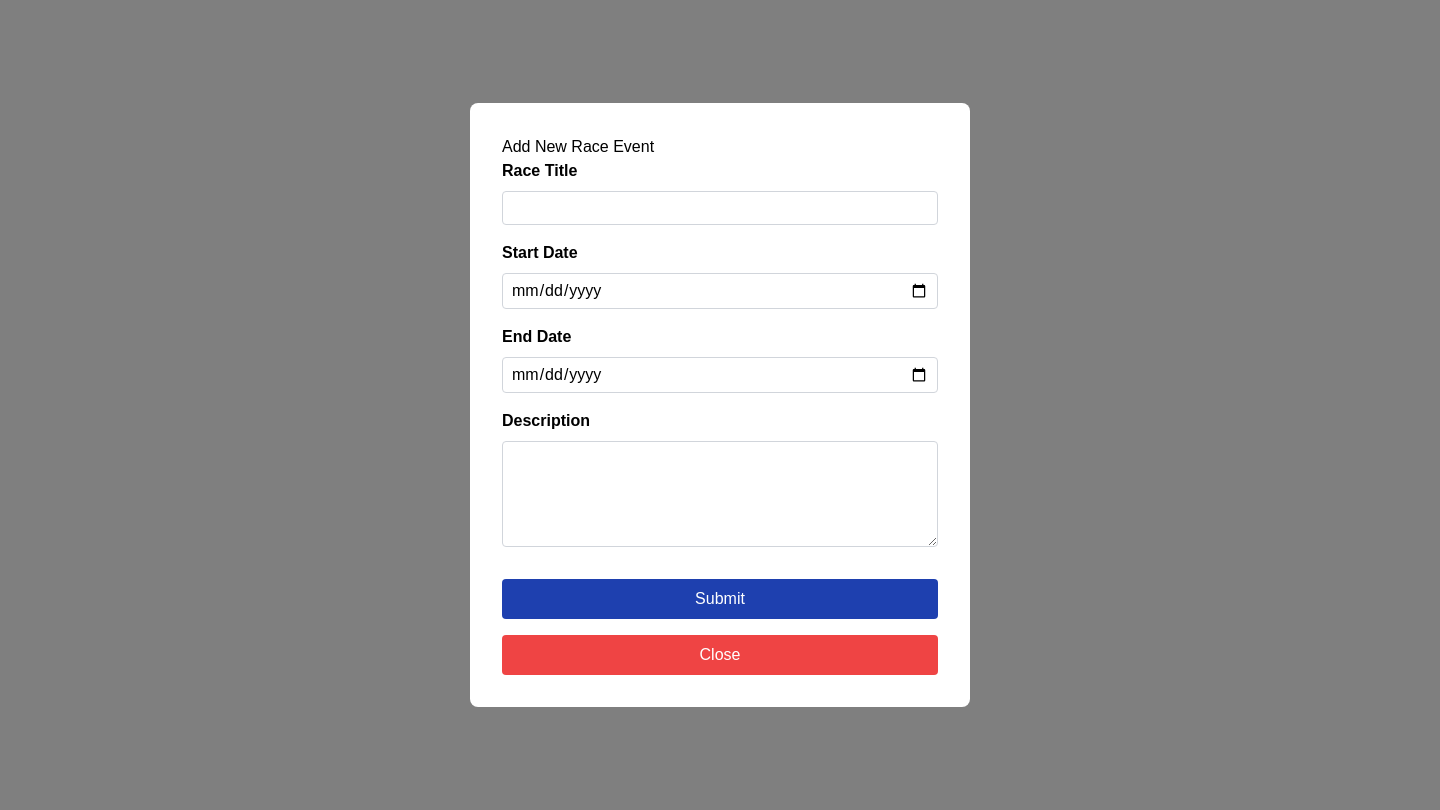
Test case: RaceAddForm › should show alert when start date is greater than end date
The width and height of the screenshot is (1440, 810).
Step 1. Type "New Race" into the field labelled "Race Title" → (720, 208), box [502,191,938,225]
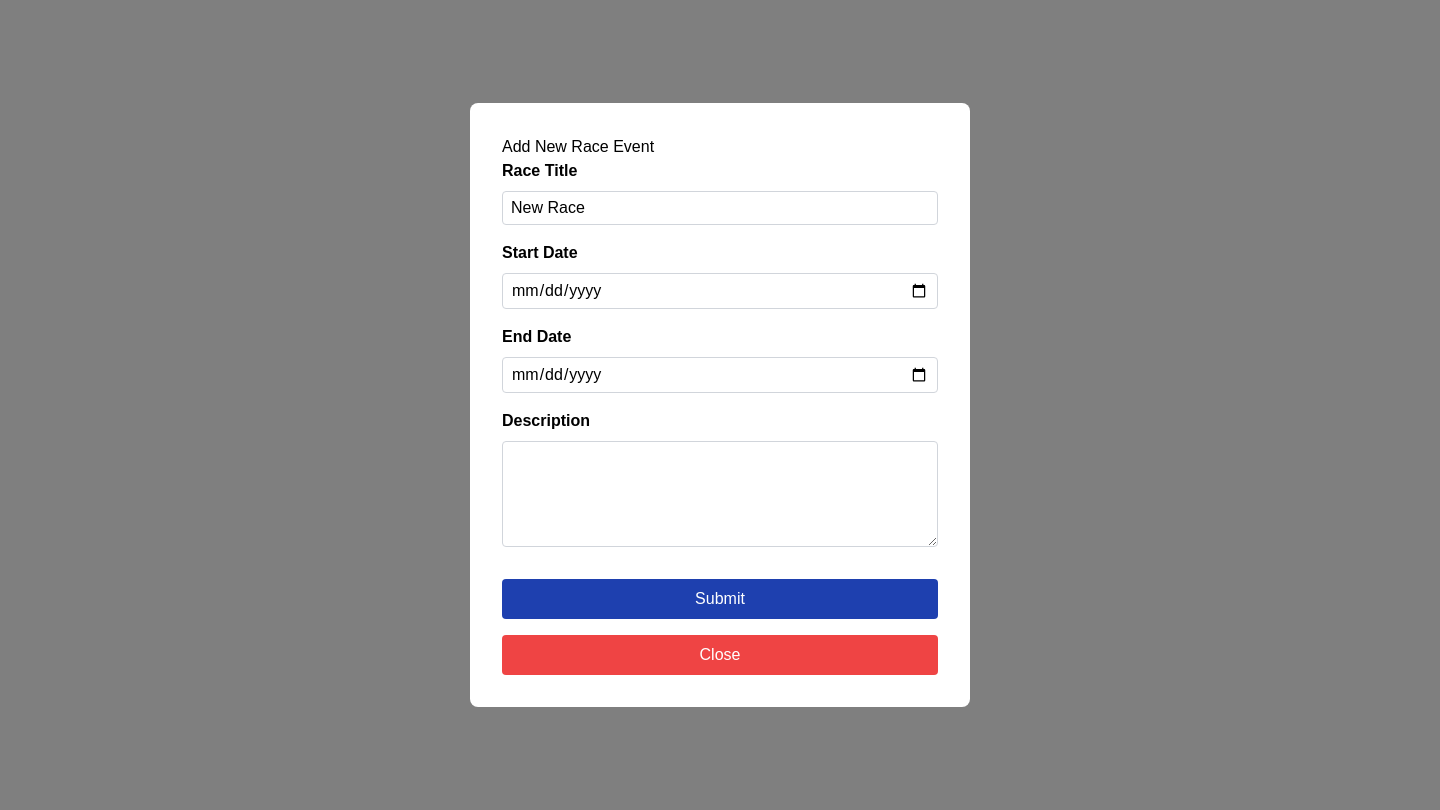
Step 2. Type "2024-03-10" into the date field labelled "Start Date" → (720, 291), box [502,273,938,309]
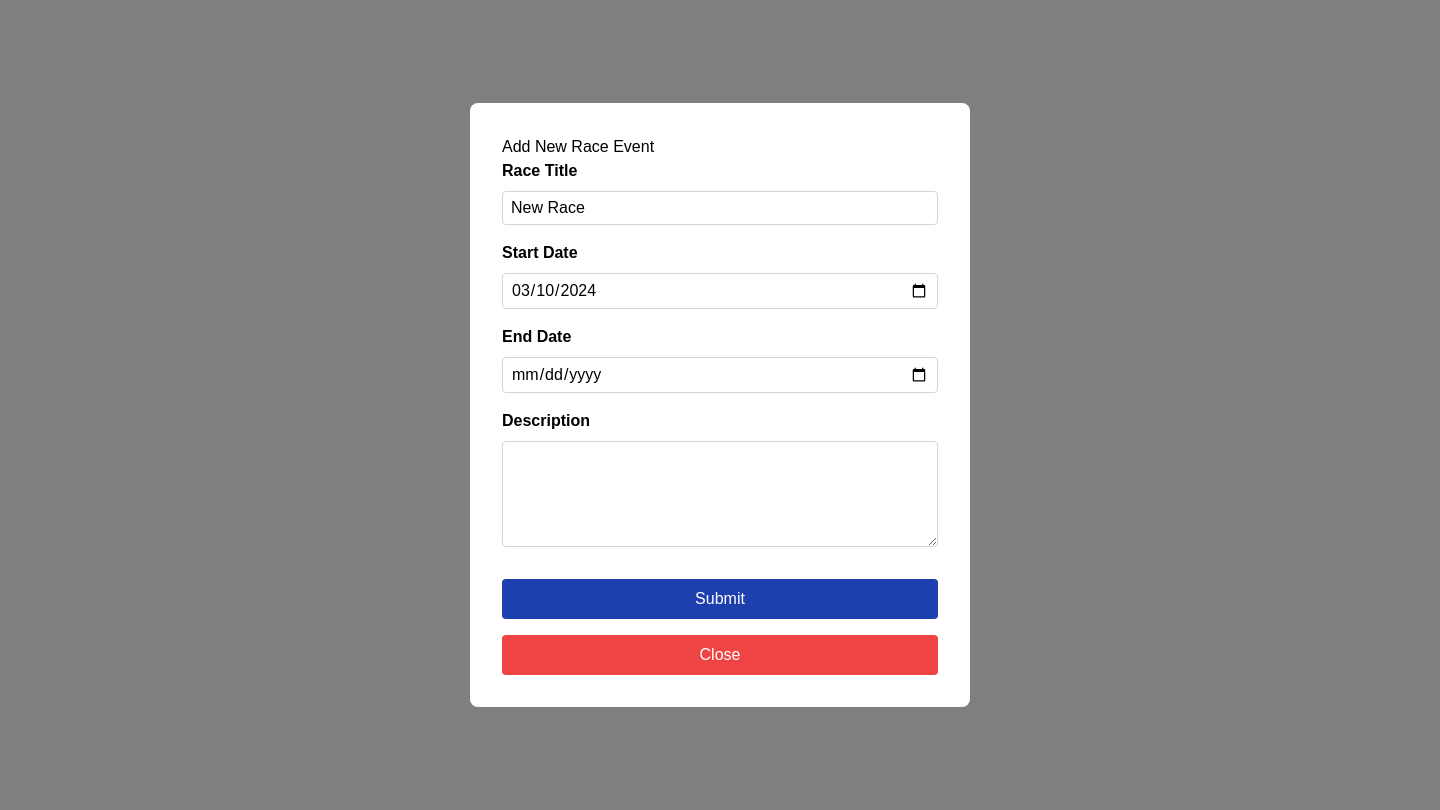
Step 3. Type "2024-03-09" into the date field labelled "End Date" → (720, 375), box [502,357,938,393]
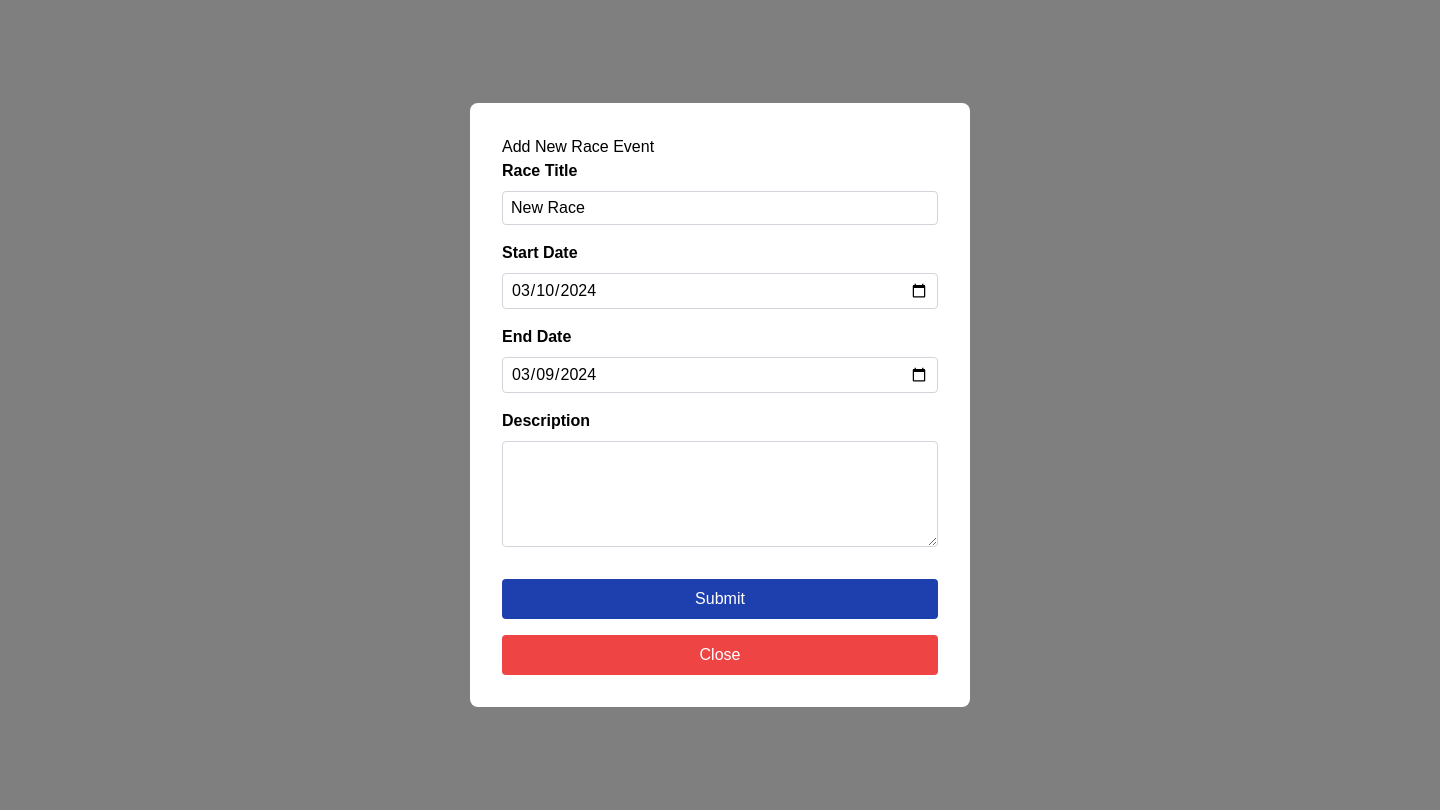
Step 4. Type "New Race" into the text box labelled "Description" → (720, 494), box [502,441,938,547]
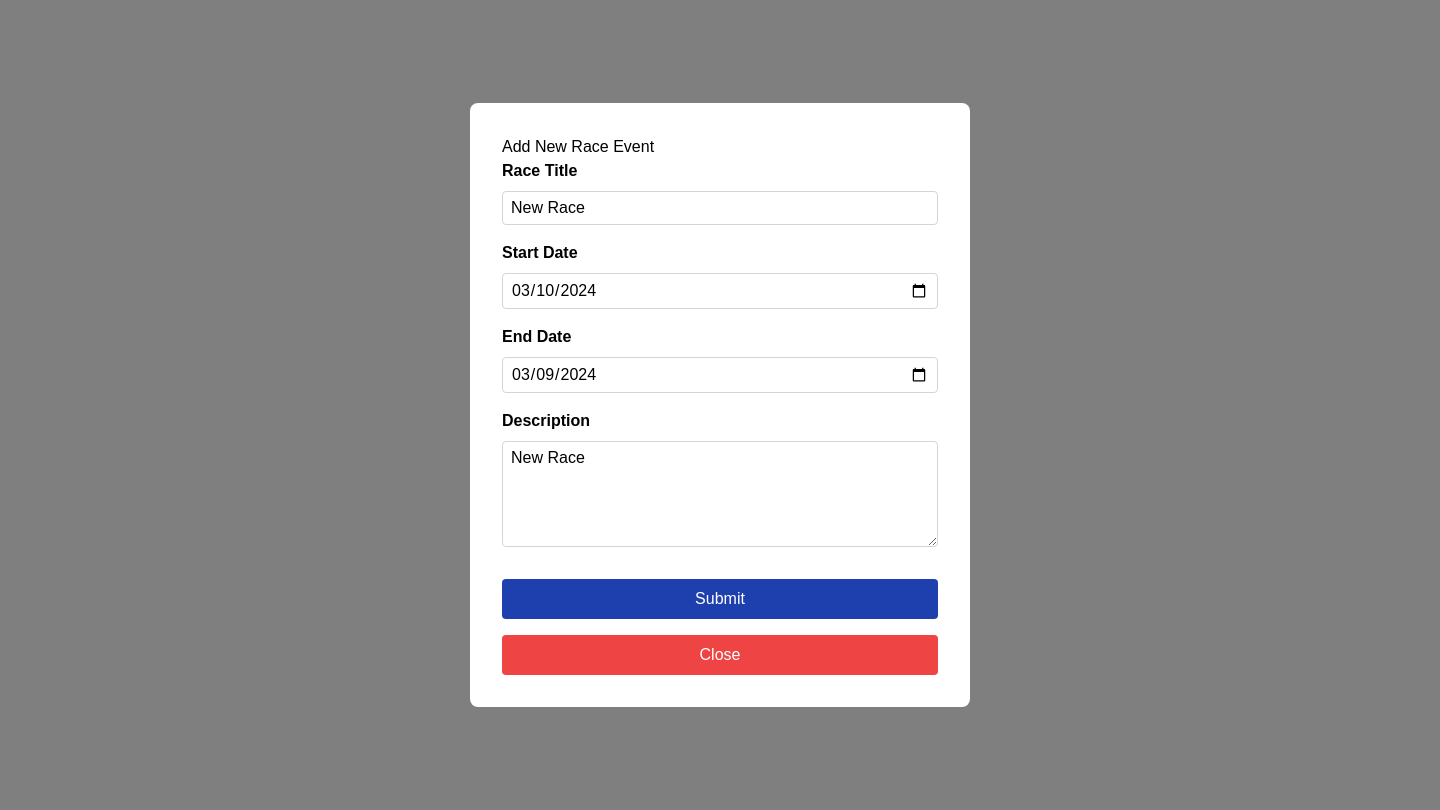
Step 5. Click the button "Submit" → (720, 599), box [502,579,938,619]
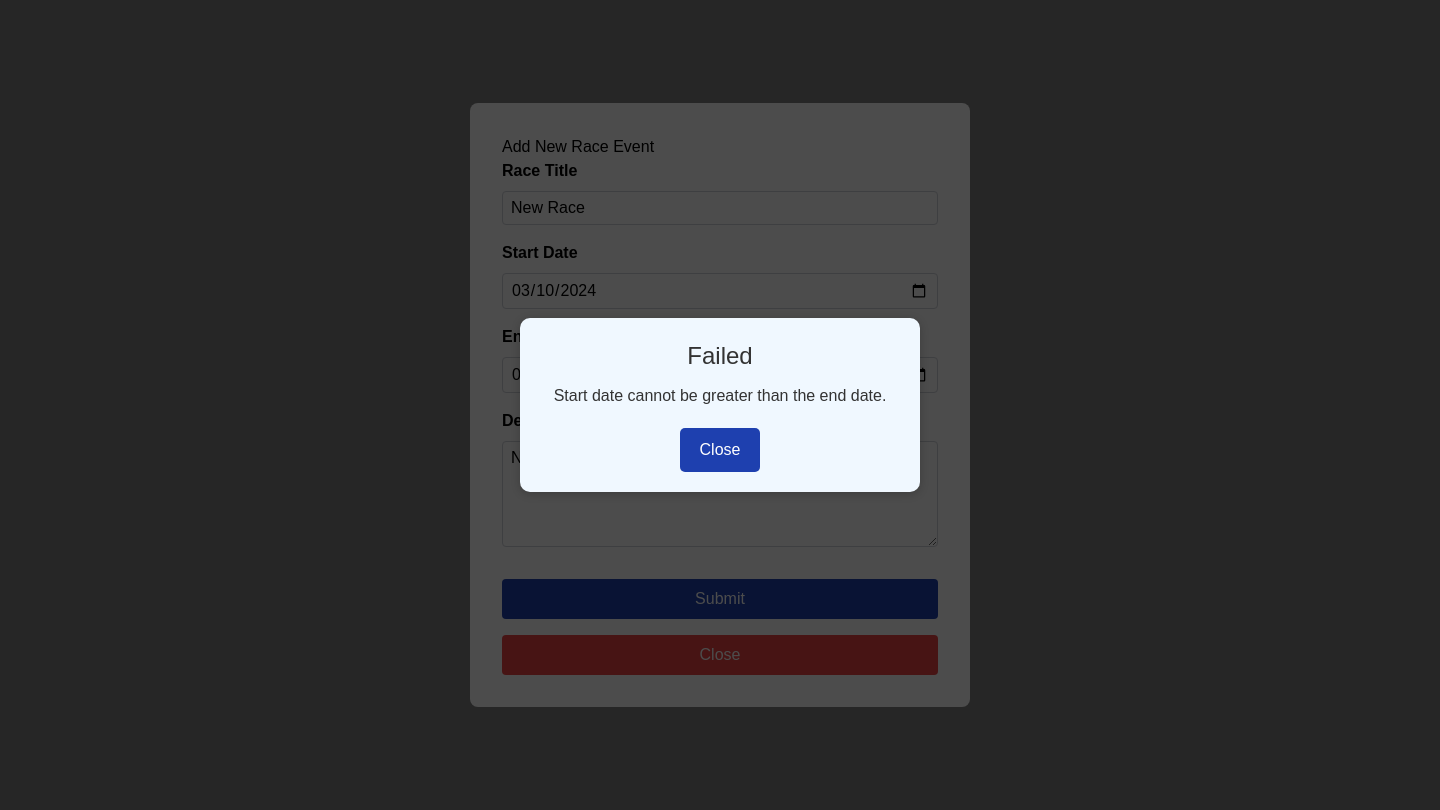
Now the text "Start date cannot be greater than the end date." is shown, box [540,384,900,408]
